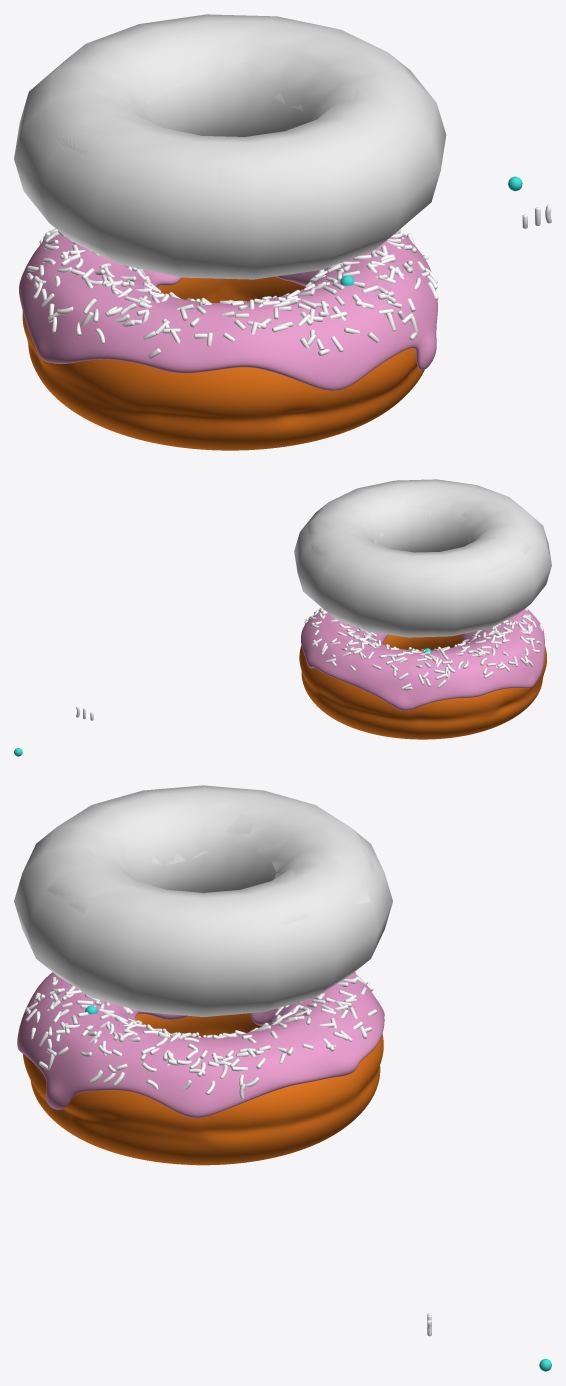
File: donut.glb
3 renders of one model, top to bottom at view 1: azimuth 30°, elevation 25°; view 2: azimuth 150°, elevation 25°; view 3: azimuth 270°, elevation 25°, orthographic. The views are drawn at different scales.
Parts seen in each view (by area): view 1: Dount.001, Lcing, Dount, Lcing.001; view 2: Dount.001, Lcing, Dount, Lcing.001; view 3: Dount.001, Lcing, Dount, Lcing.001.
Part boxes in pixels (left/top/right/bottom): Dount.001: left=14, top=14, right=446, bottom=279; Lcing: left=19, top=234, right=437, bottom=390; Dount: left=22, top=276, right=424, bottom=450; Lcing.001: left=37, top=14, right=414, bottom=184; Dount.001: left=294, top=479, right=551, bottom=637; Lcing: left=301, top=609, right=544, bottom=710; Dount: left=299, top=634, right=546, bottom=739; Lcing.001: left=307, top=479, right=530, bottom=580; Dount.001: left=14, top=785, right=392, bottom=1016; Lcing: left=17, top=972, right=384, bottom=1117; Dount: left=23, top=1013, right=383, bottom=1165; Lcing.001: left=47, top=785, right=376, bottom=927.
Size of what is drawn, in the model's own units: 1.07 by 0.5581 by 0.8457.
